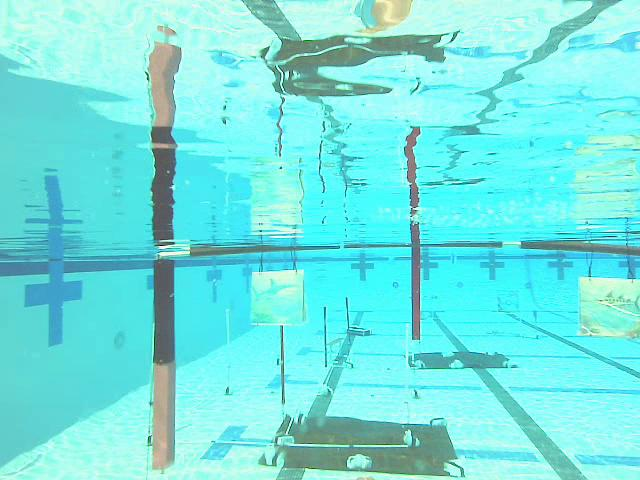black_poster: (278, 321, 288, 405), (321, 305, 332, 369), (341, 297, 353, 344)
divider: (409, 219, 424, 335)
left_gate_poster: (149, 259, 180, 472)
shark: (249, 266, 309, 332)
swordfish: (578, 276, 640, 344)
white_poster: (221, 308, 234, 397)
